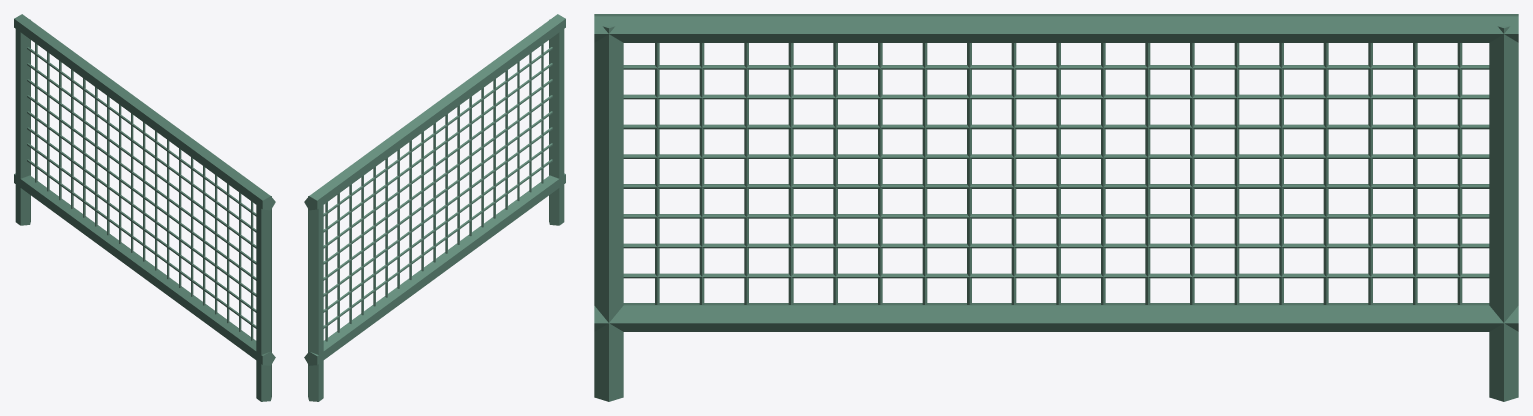
File: fence.fbx
3 views of the same model, side by side, from view 1: azimuth 30°, elevation 25°; view 2: azimuth 150°, elevation 25°; view 3: azimuth 270°, elevation 25° (orthographic). The views are drawn at different scales.
Parts seen in each view (by area): view 1: fence_rails, rail, rail1, rail2, rail3; view 2: fence_rails, rail, rail1, rail3, rail2; view 3: fence_rails, rail, rail1, rail2, rail3.
Boxes of the visible parts, x1=… form: fence_rails: x1=27, y1=43, x2=256, y2=340; rail: x1=14, y1=14, x2=275, y2=210; rail1: x1=14, y1=173, x2=275, y2=365; rail2: x1=256, y1=196, x2=271, y2=401; rail3: x1=15, y1=19, x2=30, y2=225; fence_rails: x1=323, y1=44, x2=552, y2=341; rail: x1=304, y1=14, x2=565, y2=210; rail1: x1=304, y1=173, x2=565, y2=365; rail3: x1=308, y1=196, x2=323, y2=401; rail2: x1=549, y1=19, x2=564, y2=225; fence_rails: x1=623, y1=43, x2=1489, y2=304; rail: x1=594, y1=14, x2=1518, y2=42; rail1: x1=594, y1=303, x2=1518, y2=331; rail2: x1=594, y1=26, x2=623, y2=401; rail3: x1=1489, y1=26, x2=1518, y2=401.
Size of the model in its own units: 11.68 by 175 by 385.
